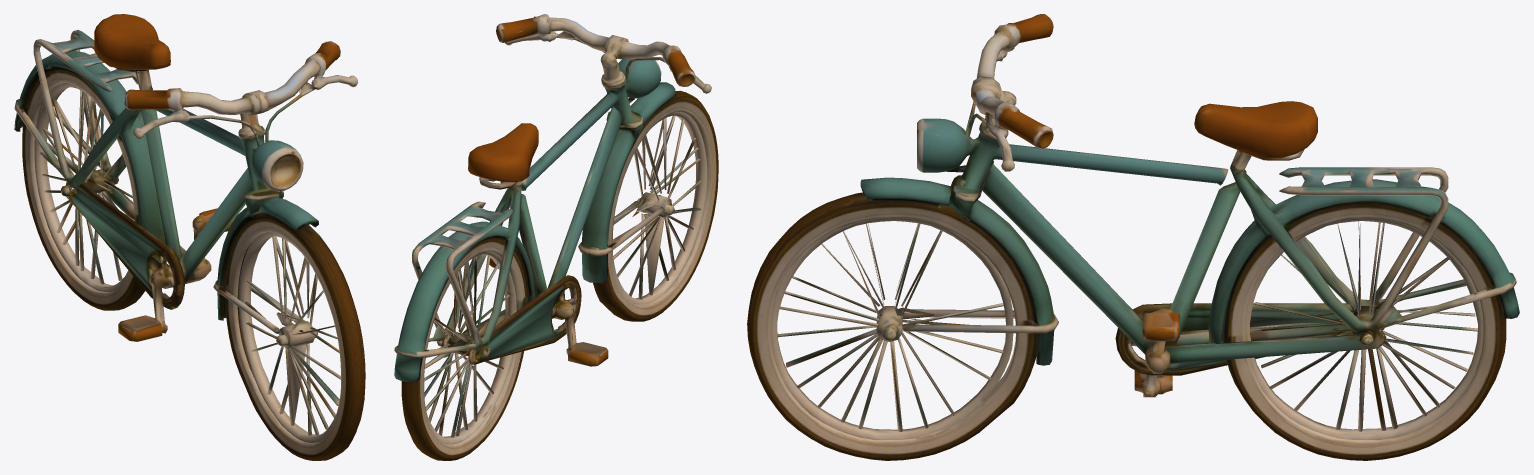
File: a_retro_bicycle_b33e429c_v4.glb
The picture shows the model from 3 angles, left to right: view 1: azimuth 30°, elevation 25°; view 2: azimuth 150°, elevation 25°; view 3: azimuth 270°, elevation 25°; orthographic projection. The views are drawn at different scales.
Visible parts, largest first — view 1: material; view 2: material; view 3: material.
Boxes of the visible parts, x1,y1,x2,y2 form: material: (14, 14, 365, 460); material: (394, 14, 718, 460); material: (747, 14, 1519, 460).
Bounding box in the file's own units: 0.7283 × 1.07 × 1.9.
1 material, 1 textured.
